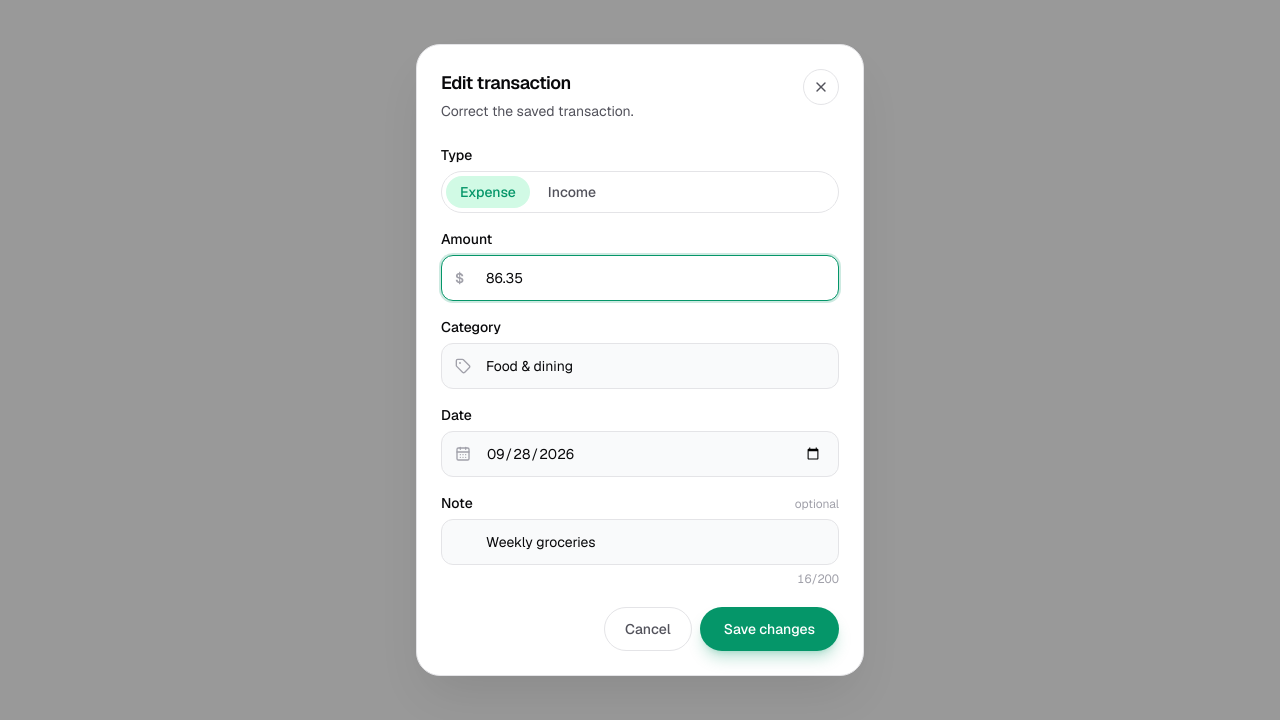
Test: TransactionFormModal › editing a transaction › reports an edit the user left invalid and saves nothing
Clear the field labelled "Amount" at (640, 278), box [441,255,839,301]
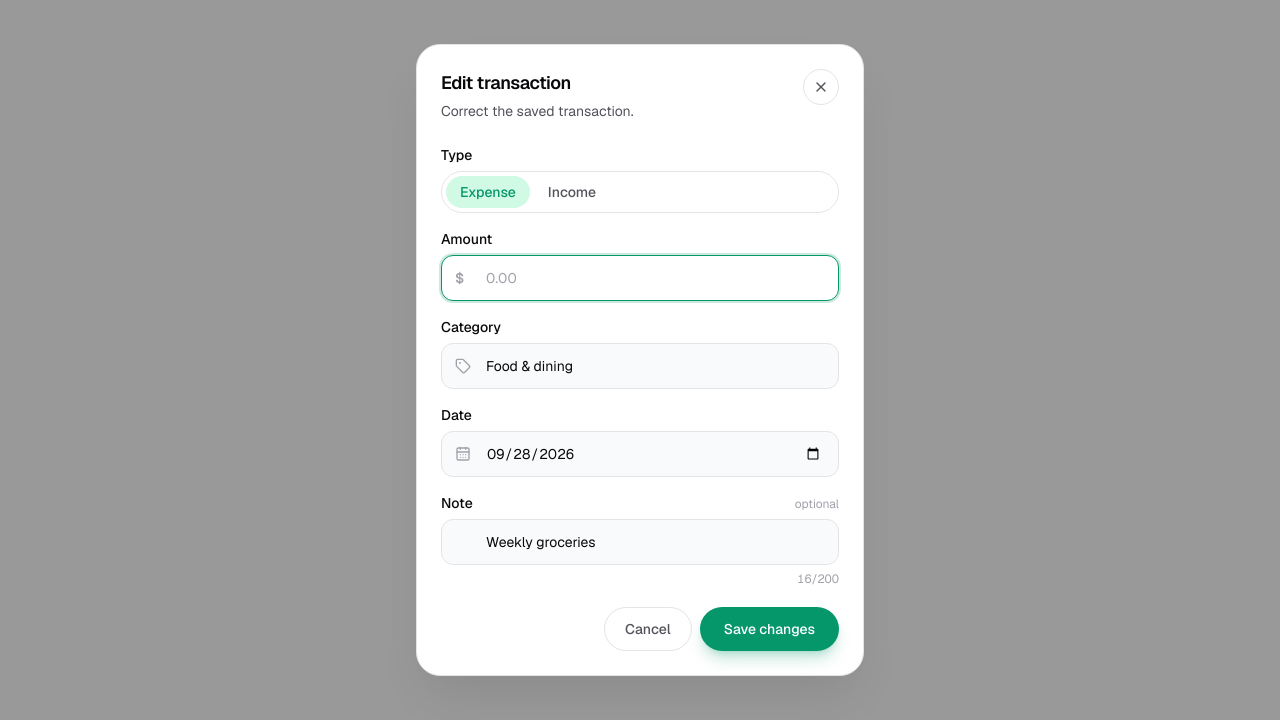
Click the button "Save changes".
click(769, 629)  # box [700,607,839,651]
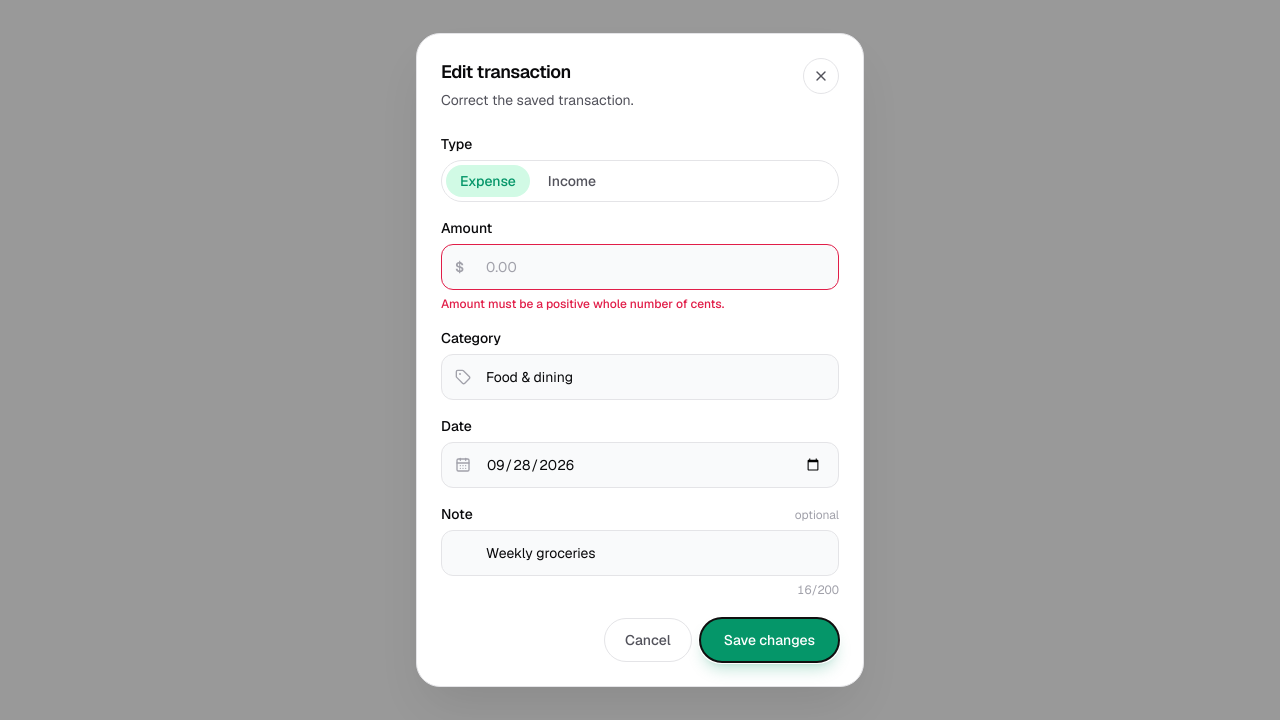
Expected: the text "Amount must be a positive whole number of cents." is shown, [441,296,724,312]
